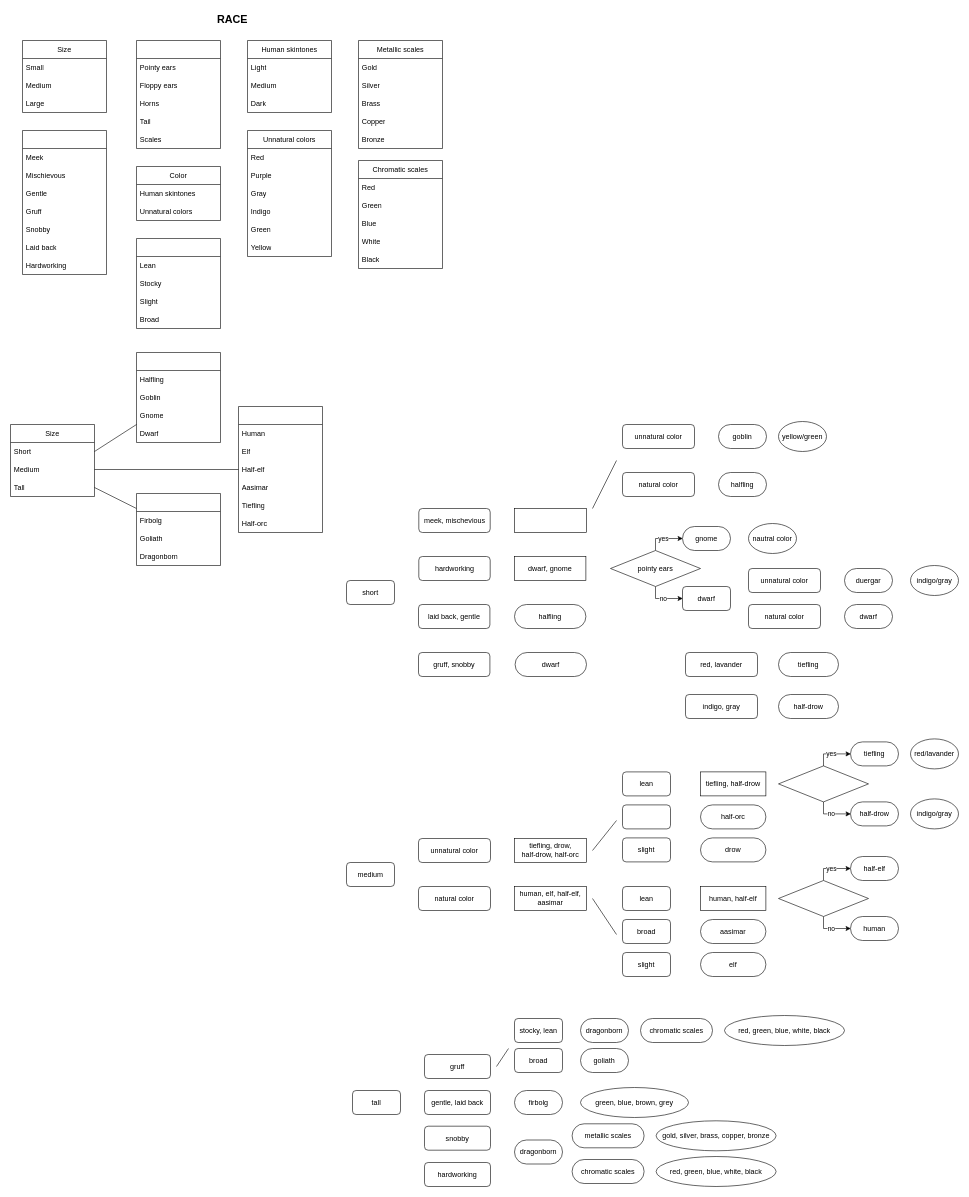
This 969x1197 diagram has some shape labels left out. Each missing label, with the box of its shape:
Attitude: (22, 130, 106, 274)
Features: (136, 40, 220, 148)
halfling, goblin: (514, 508, 586, 532)
Medium Races: (238, 406, 322, 532)
Physique: (136, 238, 220, 328)
pointy ears, innate magic?: (778, 880, 868, 916)
Short Races: (136, 352, 220, 442)
stocky, broad: (622, 804, 670, 829)
tail and horns?: (778, 765, 868, 802)
Tall Races: (136, 493, 220, 566)
